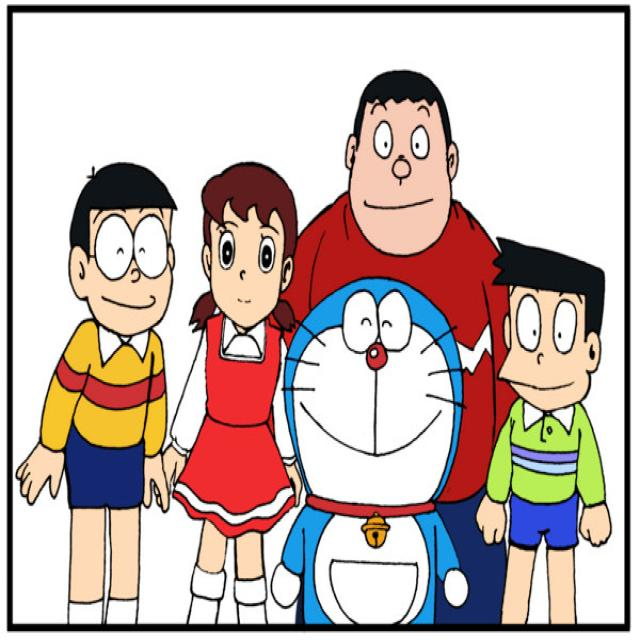doraemon: (279, 272, 461, 546)
jaian: (336, 62, 464, 257)
nobita: (60, 150, 182, 345)
shizuka: (185, 158, 298, 336)
suneo: (484, 230, 609, 422)
